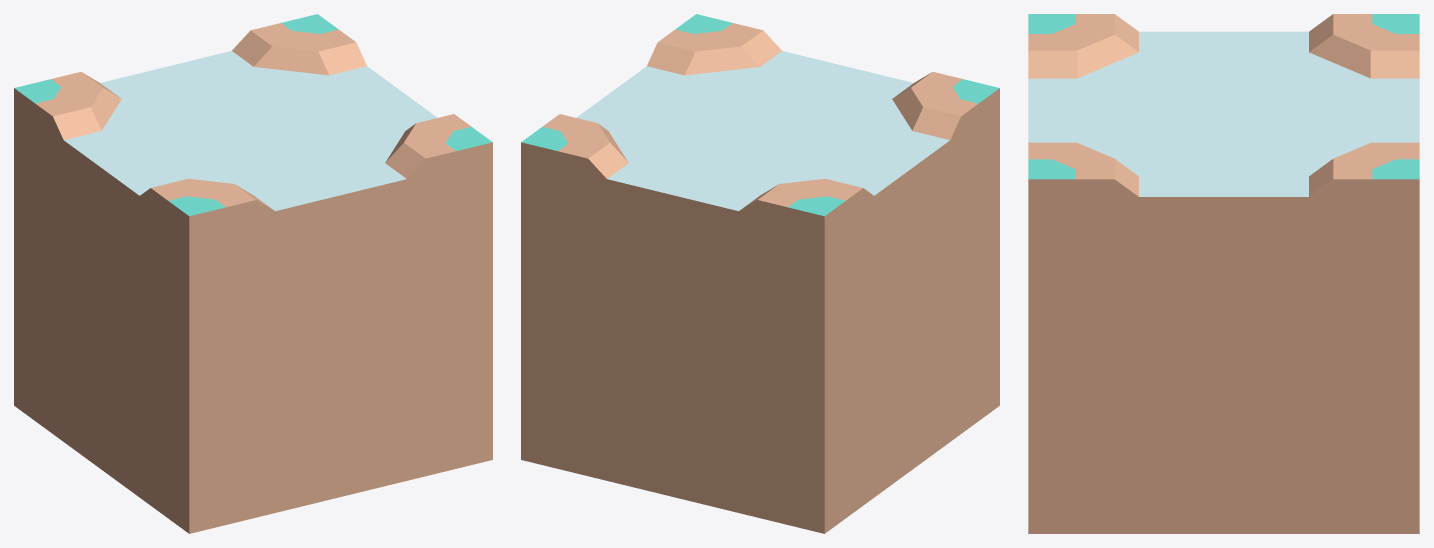
The model's file is blockRiverCross.fbx.
3 renders of one model, left to right at view 1: azimuth 30°, elevation 25°; view 2: azimuth 150°, elevation 25°; view 3: azimuth 270°, elevation 25°, orthographic. The views are drawn at different scales.
Visible parts, largest first — view 1: blockRiverCross; view 2: blockRiverCross; view 3: blockRiverCross.
Part boxes in pixels (<box>): blockRiverCross: <box>14,14,492,533</box>; blockRiverCross: <box>521,14,999,533</box>; blockRiverCross: <box>1028,14,1419,533</box>.
Bounding box in the file's own units: 100 × 100 × 100.
